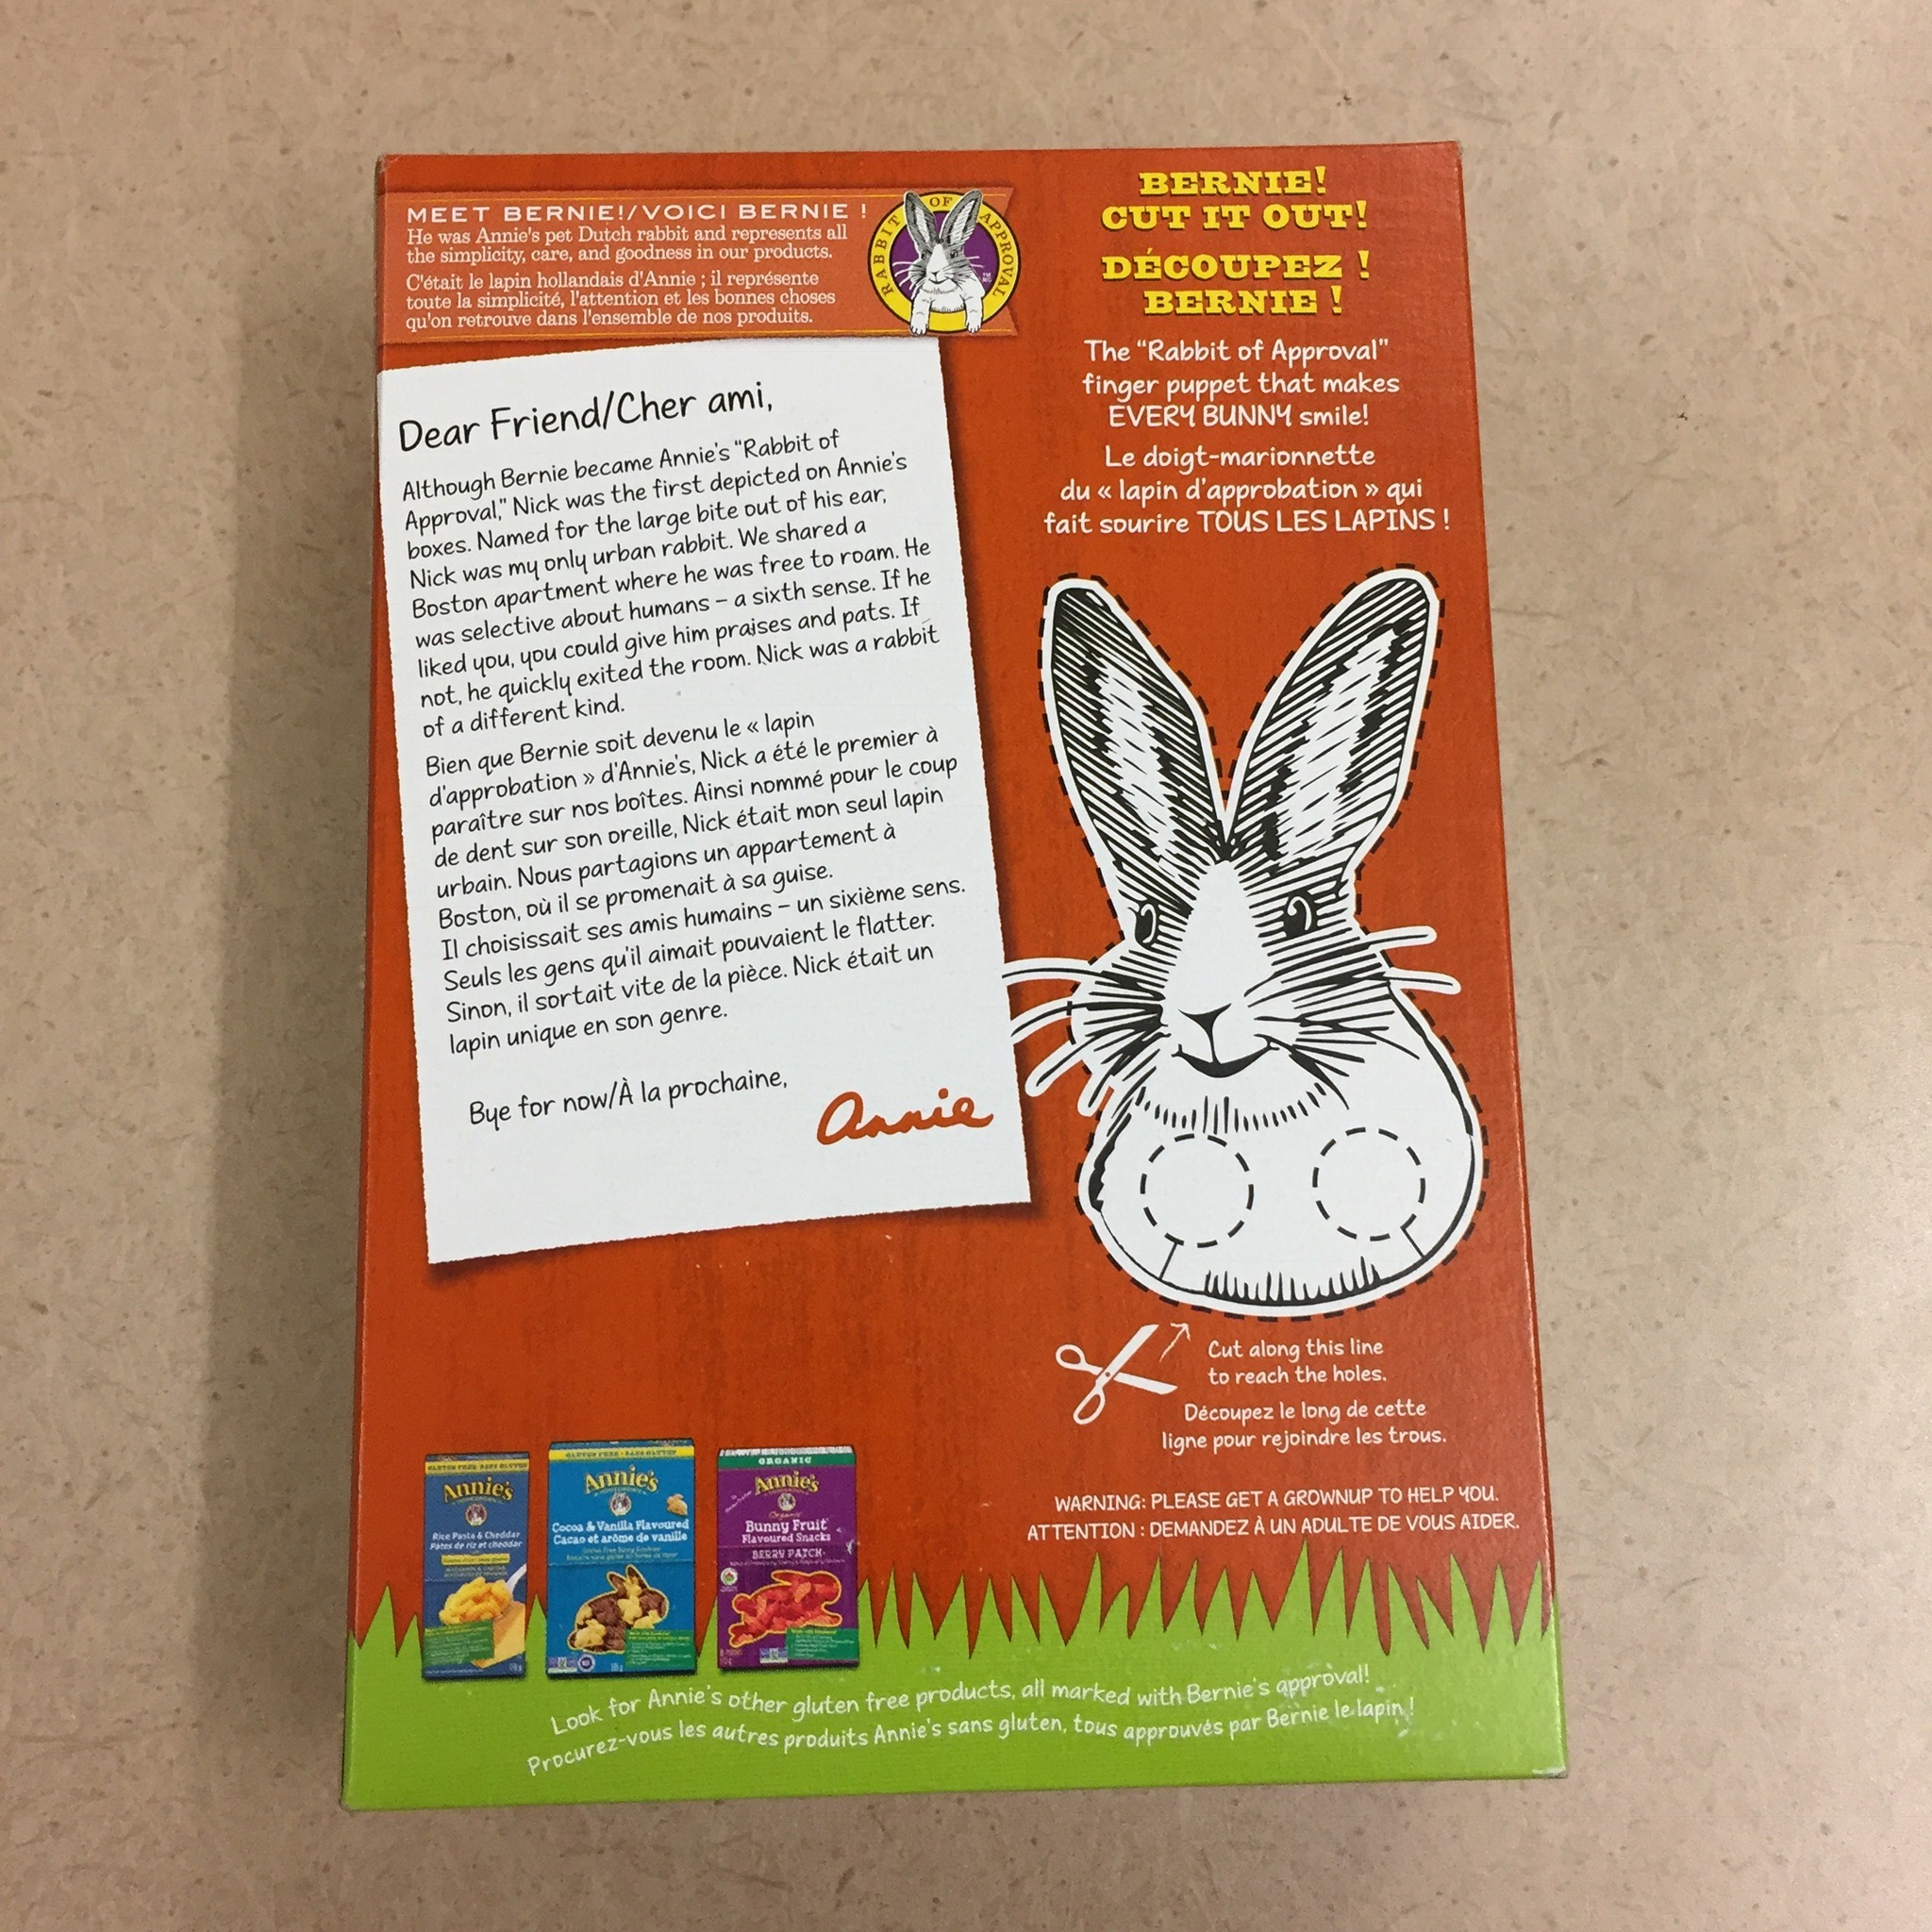annies_snickerdoodle_cinnamon_sugar: (333, 136, 1573, 1821)
